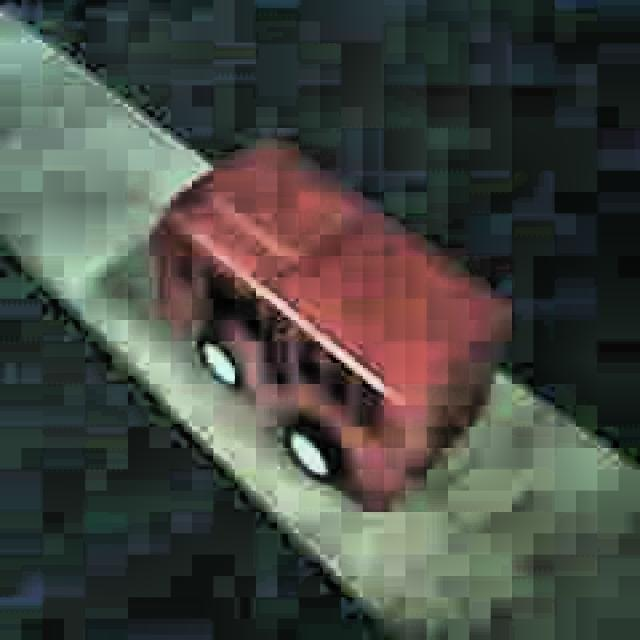bus: (147, 141, 509, 513)
